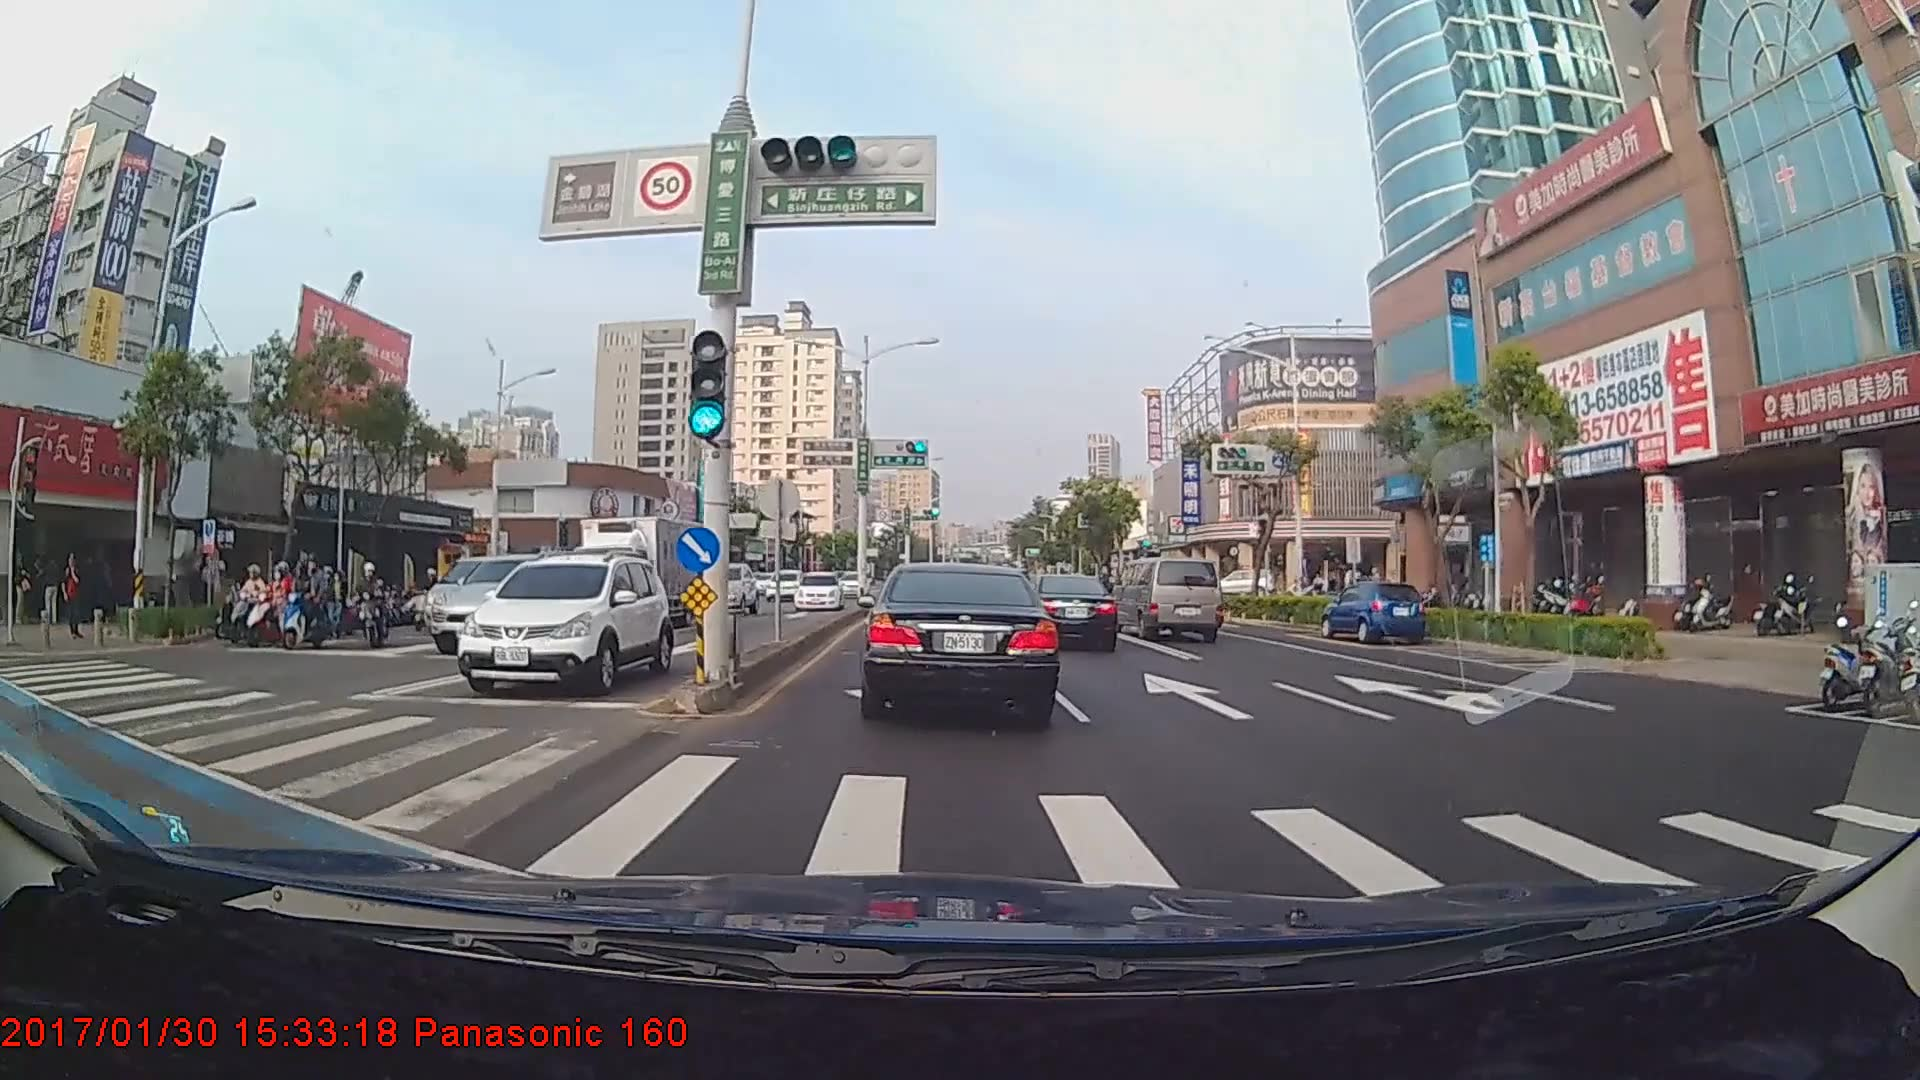pedestrian: (61, 551, 86, 642), (14, 548, 36, 630), (42, 554, 64, 629)
rider: (274, 561, 350, 651), (239, 562, 310, 647), (349, 558, 406, 657), (213, 560, 280, 643)
vehicle: (859, 556, 1058, 720), (457, 553, 670, 693), (560, 513, 705, 649), (431, 551, 573, 656), (1117, 558, 1221, 642), (1015, 570, 1116, 652), (1323, 580, 1427, 644), (692, 560, 756, 611), (789, 574, 841, 614), (765, 572, 800, 603)
